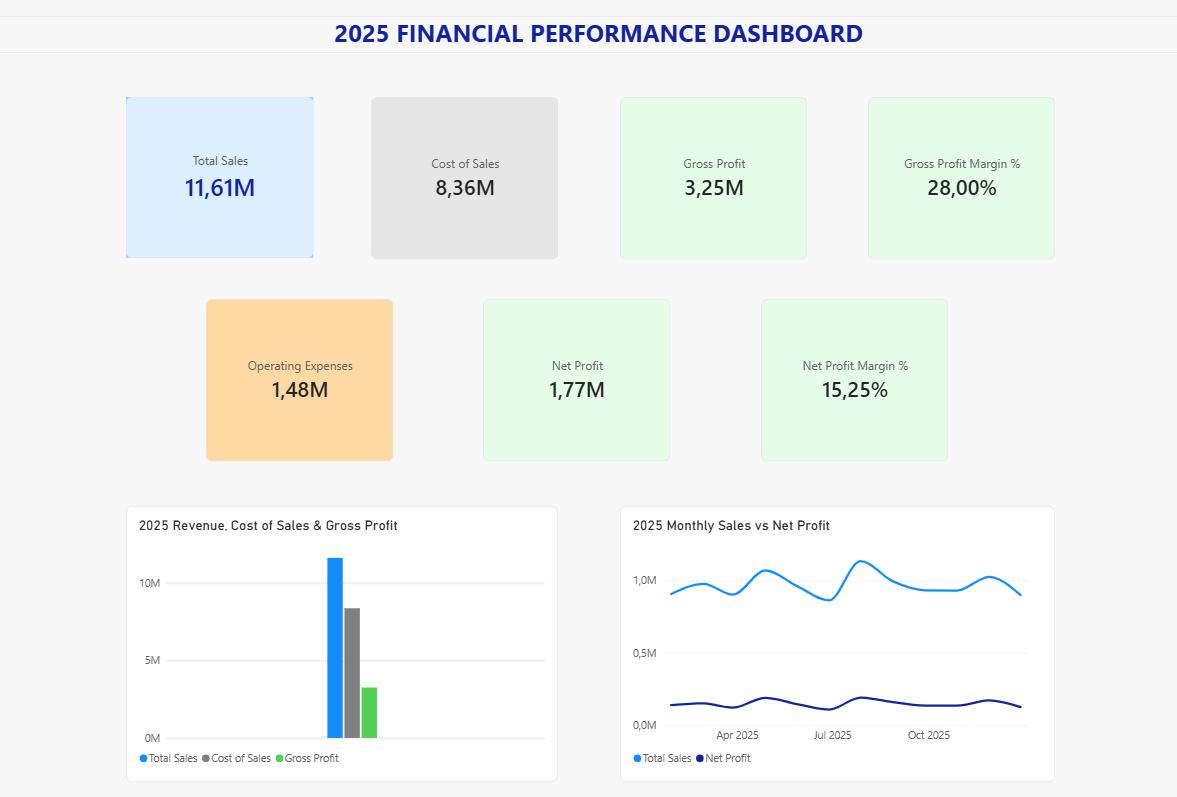

This screenshot's page, from the dashboard's own definition file:
{"tool":"powerbi","page":{"name":"2025 Financial Performance","canvas":[1920,1080],"ordinal":0},"visuals":[{"type":"cardVisual","fields":{"Data":["financial_ledger_2025.Total Sales"]},"box":[326.7,138.8,249.4,214],"z":0},{"type":"cardVisual","fields":{"Data":["financial_ledger_2025.Cost of Sales"]},"box":[653.1,138.9,249.4,216.1],"z":1000},{"type":"cardVisual","fields":{"Data":["financial_ledger_2025.Gross Profit"]},"box":[984.9,138.9,249.4,216.1],"z":2000},{"type":"cardVisual","fields":{"Data":["financial_ledger_2025.Gross Profit Margin %"]},"box":[1314,138.9,249.4,216.1],"z":3000},{"type":"cardVisual","fields":{"Data":["financial_ledger_2025.Operating Expenses"]},"box":[433.6,406.6,249.4,216.1],"z":4000},{"type":"cardVisual","fields":{"Data":["financial_ledger_2025.Net Profit"]},"box":[801.8,406.6,249.4,216.1],"z":5000},{"type":"cardVisual","fields":{"Data":["financial_ledger_2025.Net Profit Margin %"]},"box":[1172.1,406.6,249.4,216.1],"z":6000},{"type":"textbox","box":[0,30,1919.6,50],"z":7000},{"type":"clusteredColumnChart","title":"2025 Revenue, Cost of Sales & Gross Profit","fields":{"Y":["financial_ledger_2025.Total Sales","financial_ledger_2025.Cost of Sales","financial_ledger_2025.Gross Profit"]},"box":[327.4,682.3,573.6,366.5],"z":8000},{"type":"lineChart","title":"2025 Monthly Sales vs Net Profit","fields":{"Category":["financial_ledger_2025.Date.Variation.Date Hierarchy.Year","financial_ledger_2025.Date.Variation.Date Hierarchy.Quarter","financial_ledger_2025.Date.Variation.Date Hierarchy.Month","financial_ledger_2025.Date.Variation.Date Hierarchy.Day"],"Y":["financial_ledger_2025.Total Sales","financial_ledger_2025.Net Profit"]},"box":[983.9,682.3,577.7,366.5],"z":9000}]}

Visuals, with their boxes on the page's 1920x1080 design canvas (x1, y1, x2, y2). These are canvas units, not pixel positions in the 1177x797 screenshot, which may show the page scaled, cropped or inside an application window:
cardVisual - financial_ledger_2025.Total Sales: select_region(327, 139, 576, 353)
cardVisual - financial_ledger_2025.Cost of Sales: select_region(653, 139, 902, 355)
cardVisual - financial_ledger_2025.Gross Profit: select_region(985, 139, 1234, 355)
cardVisual - financial_ledger_2025.Gross Profit Margin %: select_region(1314, 139, 1563, 355)
cardVisual - financial_ledger_2025.Operating Expenses: select_region(434, 407, 683, 623)
cardVisual - financial_ledger_2025.Net Profit: select_region(802, 407, 1051, 623)
cardVisual - financial_ledger_2025.Net Profit Margin %: select_region(1172, 407, 1422, 623)
textbox: select_region(0, 30, 1920, 80)
"2025 Revenue, Cost of Sales & Gross Profit" clusteredColumnChart: select_region(327, 682, 901, 1049)
"2025 Monthly Sales vs Net Profit" lineChart: select_region(984, 682, 1562, 1049)
